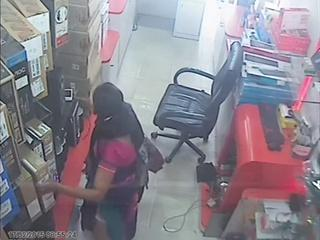shoplifting: (40, 82, 148, 240)
